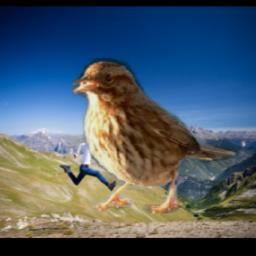Sparrow: (73, 58, 240, 213)
